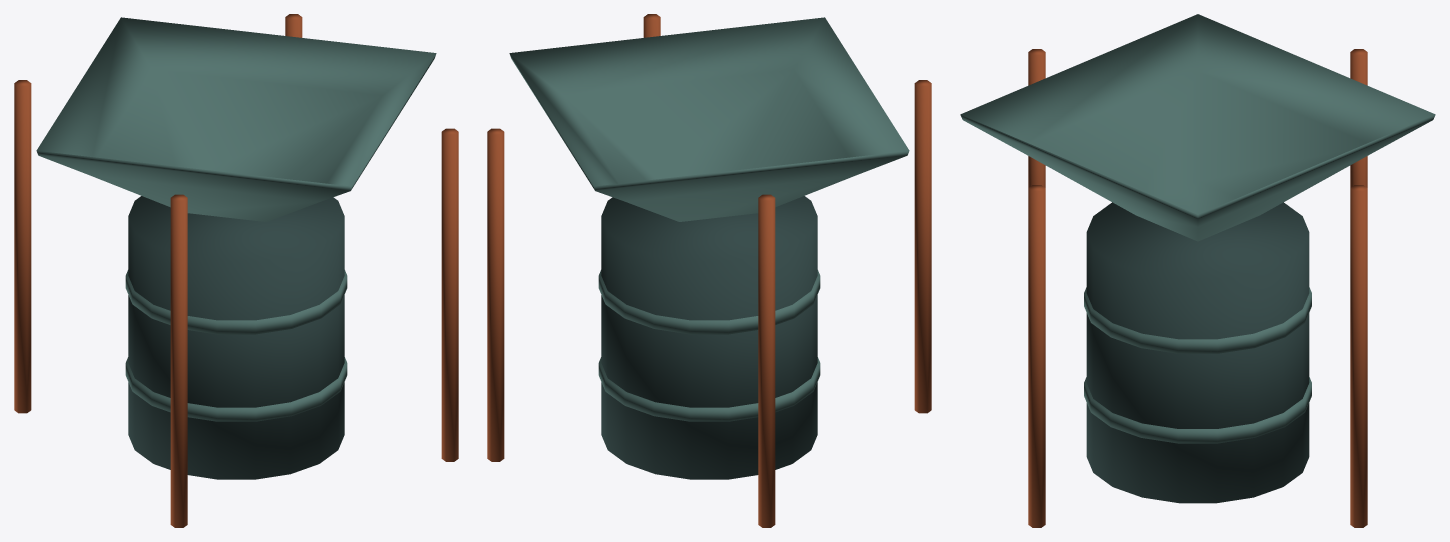
Rendered from tarp.glb.
3 views of the same model, side by side, from view 1: azimuth 30°, elevation 25°; view 2: azimuth 150°, elevation 25°; view 3: azimuth 270°, elevation 25° (orthographic). The views are drawn at different scales.
Visible parts, largest first — view 1: funnel, barrel, pole, pole.001, pole.002, rib.001, rib; view 2: funnel, barrel, pole, pole.001, pole.003, rib.001, rib; view 3: funnel, barrel, pole.002, pole.003, rib, rib.001, pole, pole.001.
Boxes of the visible parts, x1,y1,x2,y2 form: funnel: (36,17,436,221); barrel: (128,196,344,479); pole: (170,194,187,527); pole.001: (14,80,31,413); pole.002: (441,128,458,461); rib.001: (125,270,347,334); rib: (125,357,347,421); funnel: (509,17,909,221); barrel: (601,196,817,479); pole: (914,80,931,413); pole.001: (758,194,775,527); pole.003: (487,128,504,461); rib.001: (598,270,820,334); rib: (598,357,820,421); funnel: (960,14,1435,241); barrel: (1086,202,1309,503); pole.002: (1028,185,1045,527); pole.003: (1350,185,1367,527); rib: (1084,377,1311,443); rib.001: (1084,287,1311,353); pole: (1028,49,1045,187); pole.001: (1350,49,1367,187).
Size of the model in its own units: 0.384 by 0.305 by 0.384.
